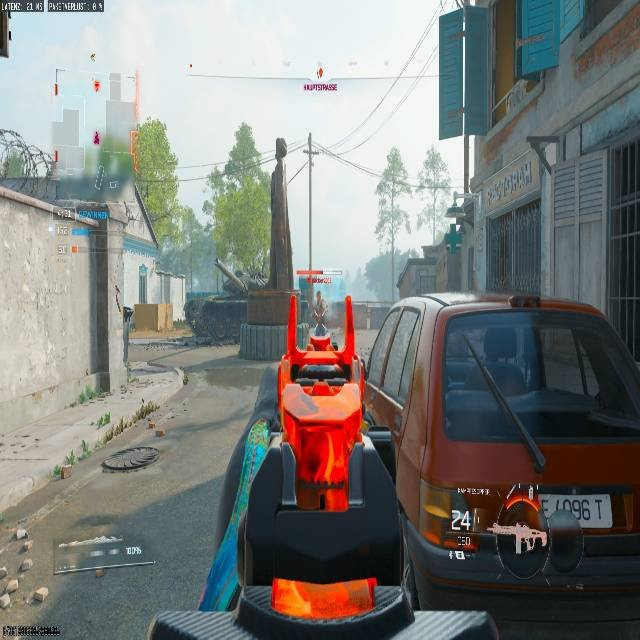player: (303, 281, 329, 342), (312, 291, 328, 335)
